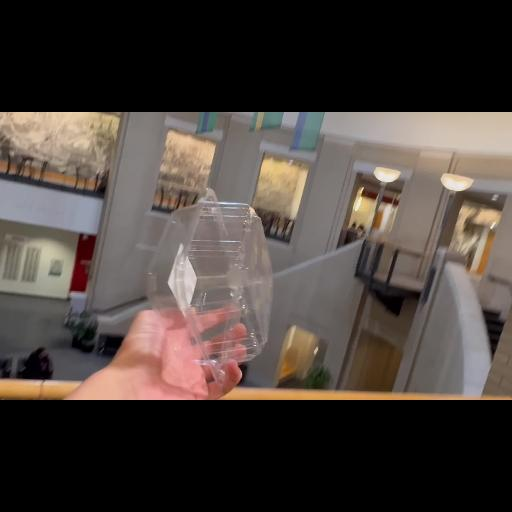small_plastic_container: (136, 190, 288, 390)
